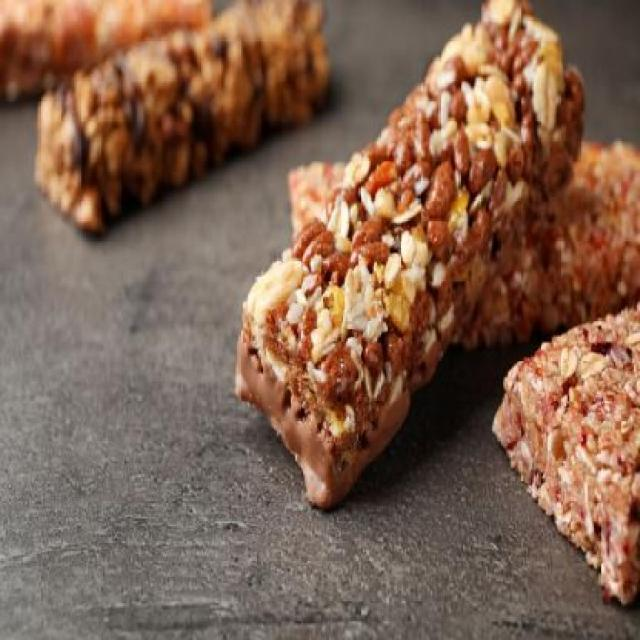Cereal bar packaged: (236, 3, 590, 509)
